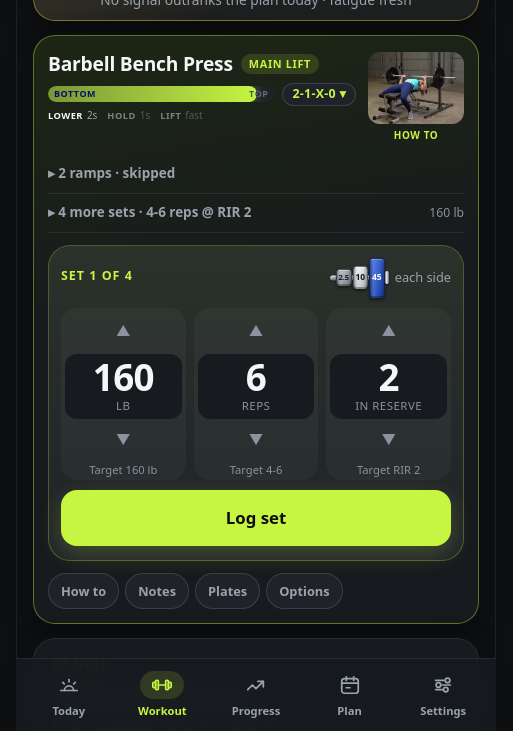
Test: the plates on the Workout tab › a target that moves and comes back draws the logger’s own value, not the dial turned before
This screenshot has width=513, height=731.
(page scrolled)
Click the button named "Increase weight": [123, 332] box x1=65 y1=312 x2=182 y2=352
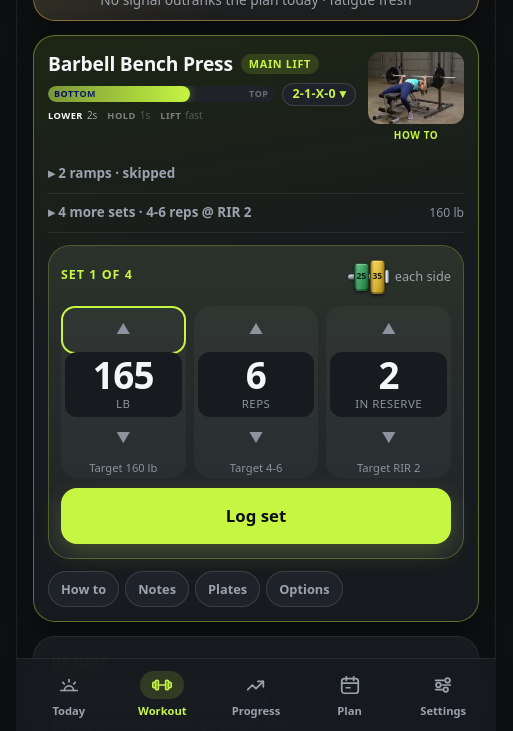
Click the tab with test id "plates-tab": [228, 589] box x1=195 y1=571 x2=260 y2=607
(page scrolled)
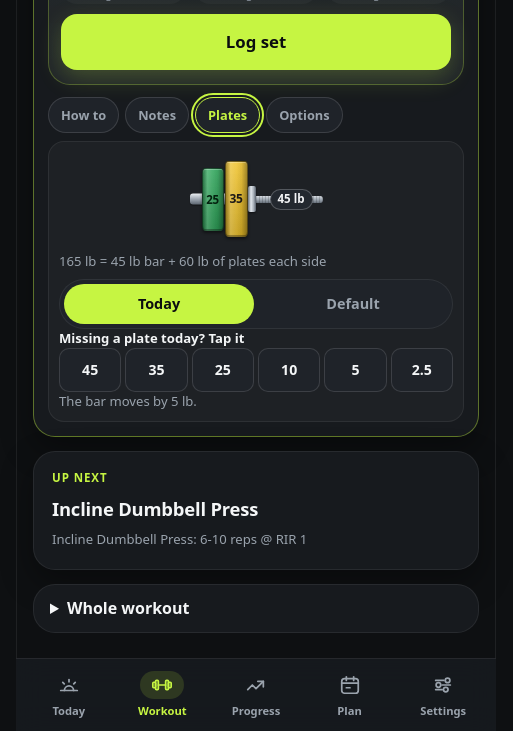
Click the button with test id "missing-2.5": [422, 370] box x1=391 y1=348 x2=453 y2=392
(page scrolled)
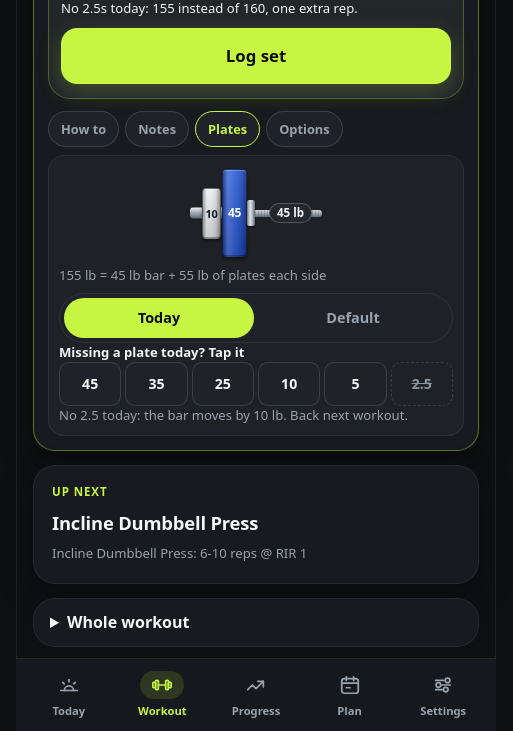
Click the button with test id "missing-2.5": [422, 384] box x1=391 y1=362 x2=453 y2=406
(page scrolled)
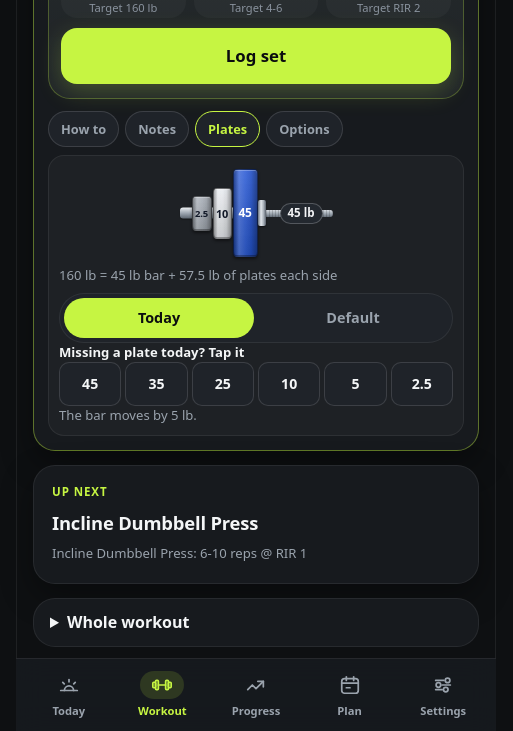
expect the text with test id "plate-caption" reads "160 lb = 45 lb bar + 57.5 lb of plates each side": met, box x1=59 y1=266 x2=338 y2=284
